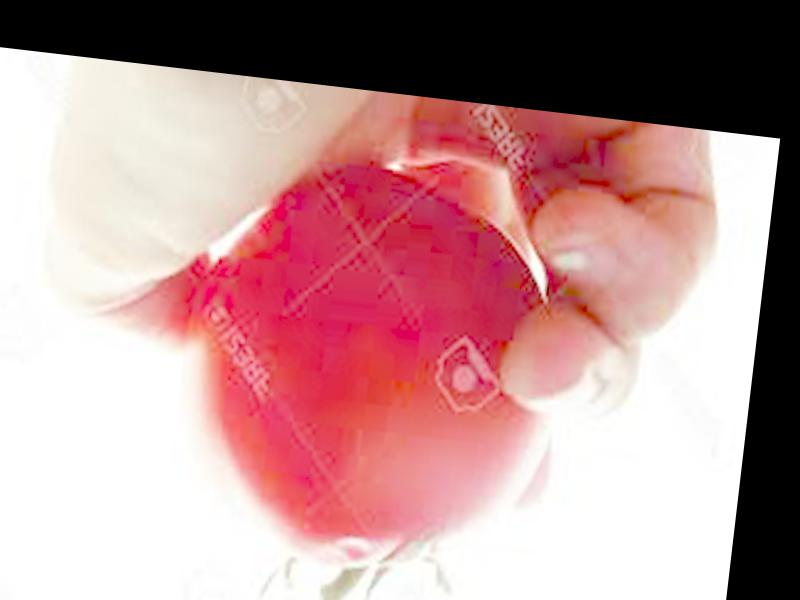Tomato: (167, 154, 580, 594)
